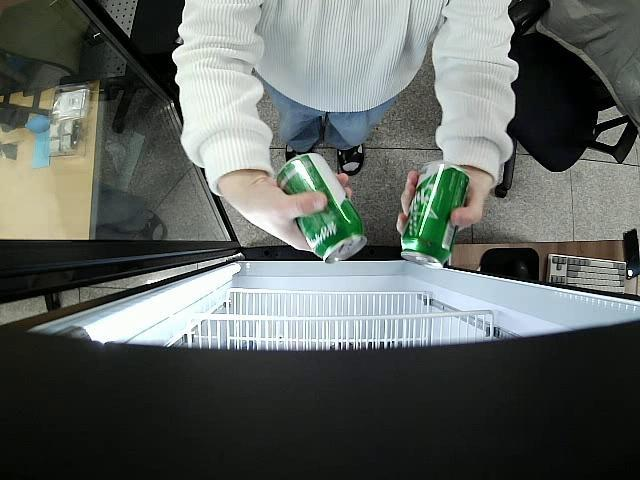12_chilsungCider: (274, 152, 368, 264), (398, 161, 471, 268)
